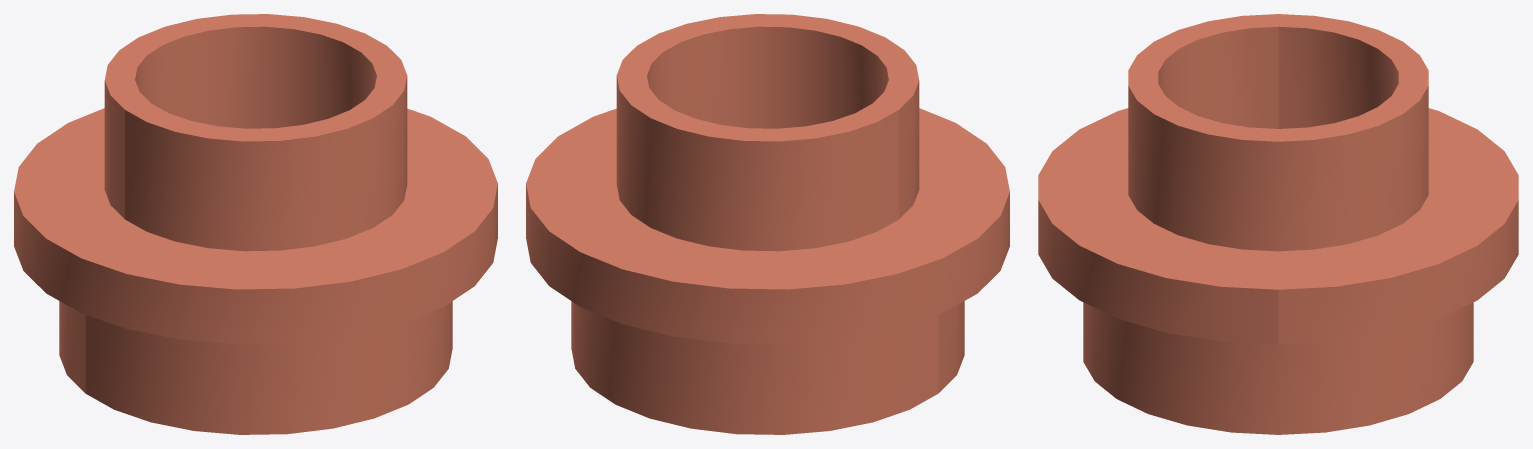
3 views of the same model, side by side, from view 1: azimuth 30°, elevation 25°; view 2: azimuth 150°, elevation 25°; view 3: azimuth 270°, elevation 25° (orthographic).
Visible parts, largest first — view 1: [pivoted]; view 2: [pivoted]; view 3: [pivoted].
Boxes of the visible parts, left/top/right/bottom form: [pivoted]: left=14, top=14, right=497, bottom=434; [pivoted]: left=526, top=14, right=1009, bottom=434; [pivoted]: left=1038, top=14, right=1518, bottom=434.
Size of the model in its own units: 0.8 by 0.5 by 0.7942.
